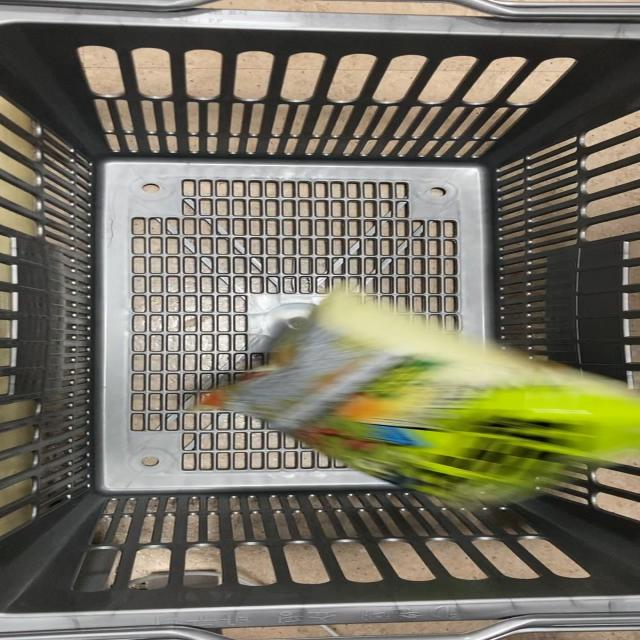ggobukchip: (205, 284, 640, 514)
